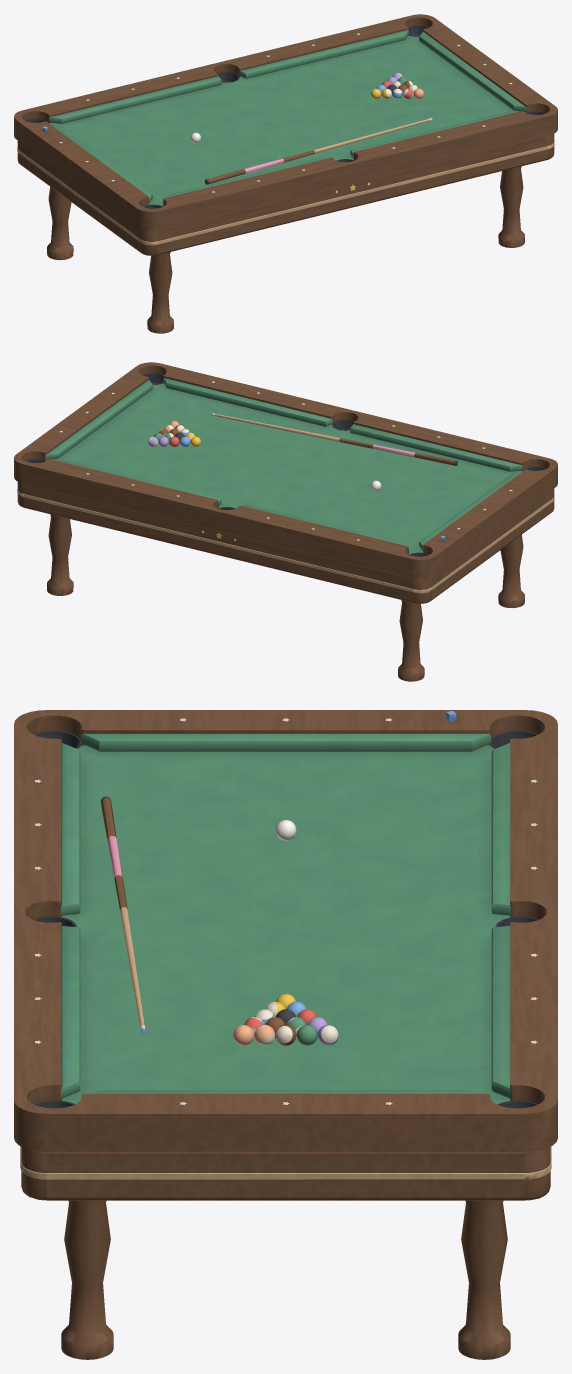
File: billar.glb
The picture shows the model from 3 angles, top to bottom: view 1: azimuth 30°, elevation 25°; view 2: azimuth 150°, elevation 25°; view 3: azimuth 270°, elevation 25°; orthographic projection. The views are drawn at different scales.
Visible parts, largest first — view 1: pool-table_ball_black_black; view 2: pool-table_ball_black_black; view 3: pool-table_ball_black_black.
Part boxes in pixels (bbox=[...]): pool-table_ball_black_black: bbox=[14, 14, 557, 333]; pool-table_ball_black_black: bbox=[14, 362, 557, 681]; pool-table_ball_black_black: bbox=[14, 710, 557, 1359].
Size of the model in its own units: 2.6 by 0.8266 by 1.48.
17 materials, 1 textured.
